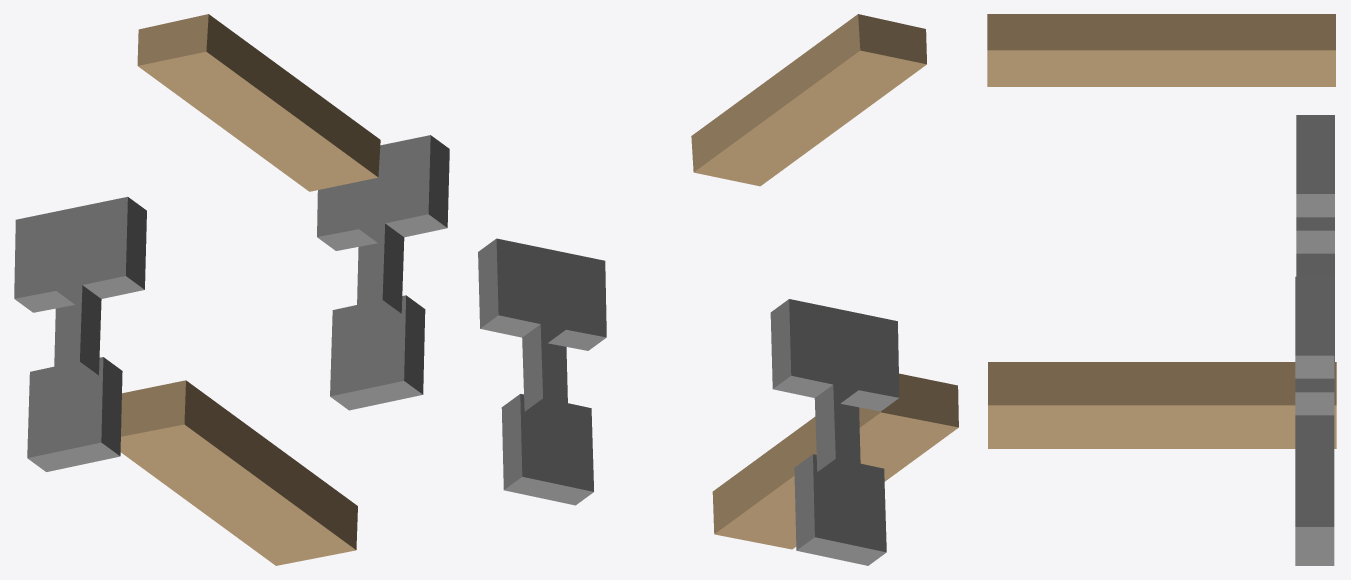
The picture shows the model from 3 angles, left to right: view 1: azimuth 30°, elevation 25°; view 2: azimuth 150°, elevation 25°; view 3: azimuth 270°, elevation 25°; orthographic projection. The views are drawn at different scales.
Visible parts, largest first — view 1: 0_2_3_2_3_3_2_3_1; view 2: 0_2_3_2_3_3_2_3_1; view 3: 0_2_3_2_3_3_2_3_1.
Boxes of the visible parts, bbox=[...] form: 0_2_3_2_3_3_2_3_1: bbox=[14, 14, 449, 565]; 0_2_3_2_3_3_2_3_1: bbox=[478, 14, 958, 565]; 0_2_3_2_3_3_2_3_1: bbox=[987, 14, 1336, 565].
Bounding box in the file's own units: 37.71 × 35.96 × 27.05.
